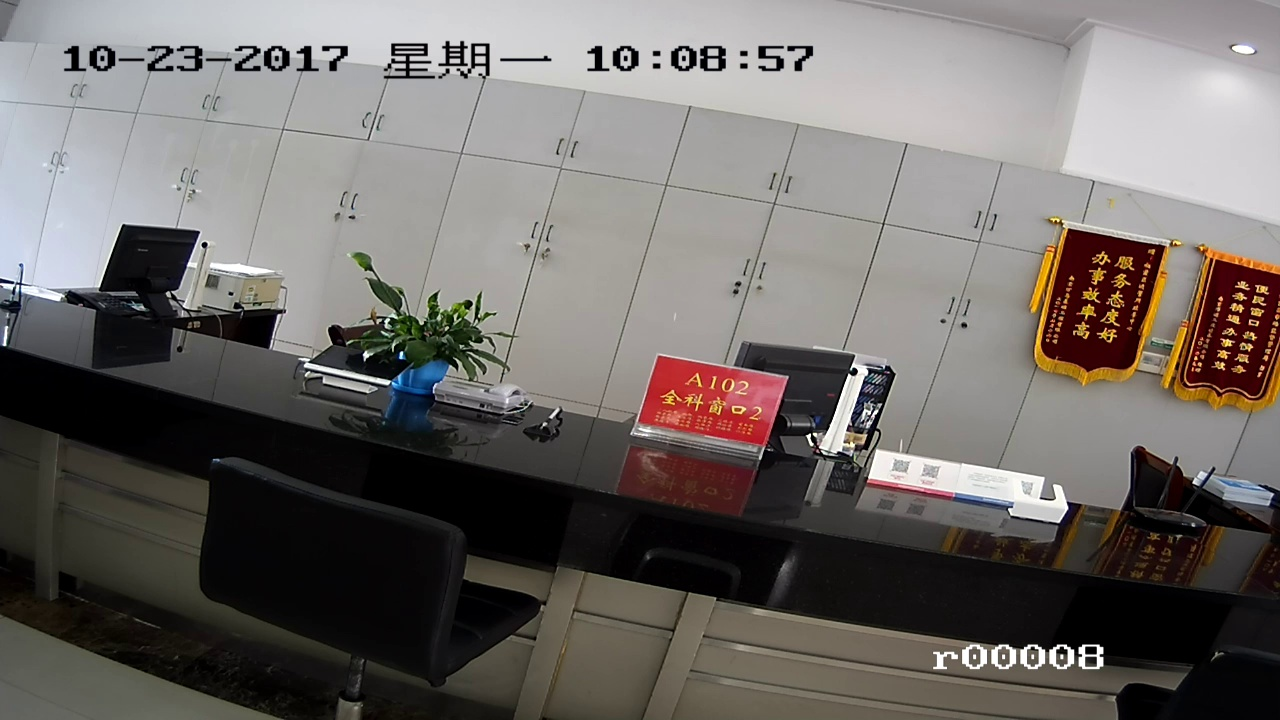billboard: (1054, 223, 1156, 384), (654, 350, 774, 469), (1201, 259, 1271, 417)
chair: (180, 470, 542, 716)
monitor: (111, 230, 193, 330)
pot: (364, 267, 471, 430)
